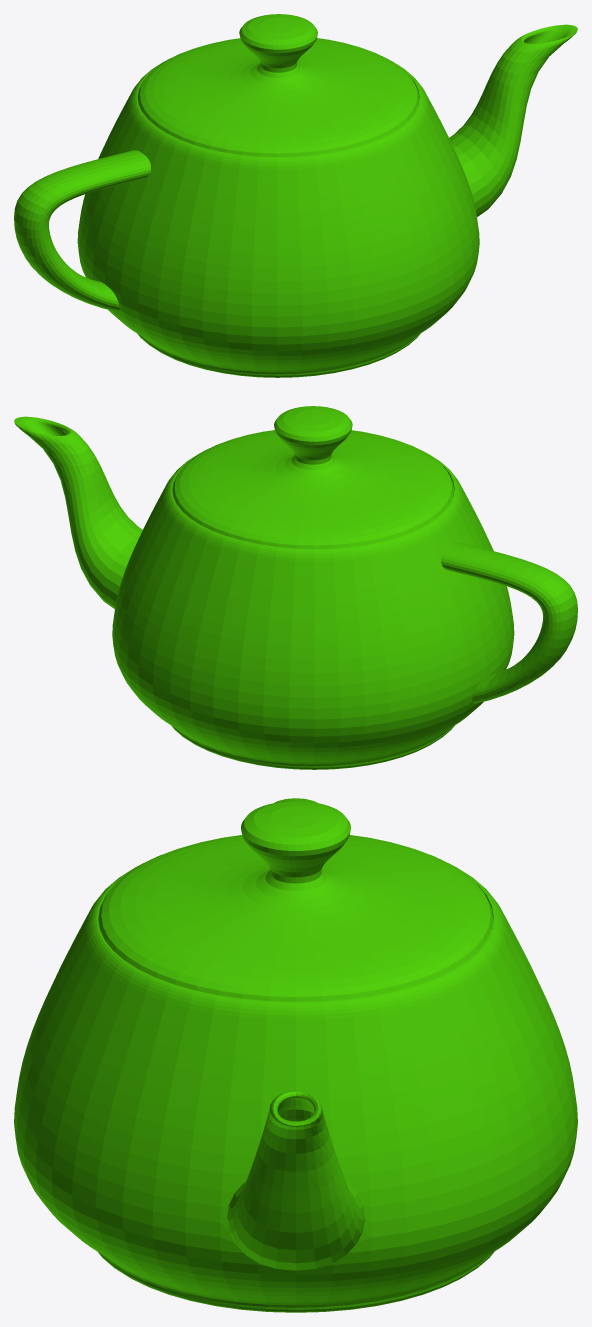
The model's file is teapot.obj.
3 views of the same model, one above another, from view 1: azimuth 30°, elevation 25°; view 2: azimuth 150°, elevation 25°; view 3: azimuth 270°, elevation 25° (orthographic). The views are drawn at different scales.
Parts seen in each view (by area): view 1: Base, Top; view 2: Base, Top; view 3: Base, Top.
Boxes of the visible parts, <box> form: Base: <box>14,24,577,377</box>; Top: <box>138,14,419,156</box>; Base: <box>14,416,577,769</box>; Top: <box>172,406,453,548</box>; Base: <box>14,798,577,1312</box>; Top: <box>98,801,493,1001</box>.
Bounding box in the file's own units: 154 × 79.01 × 95.86.
